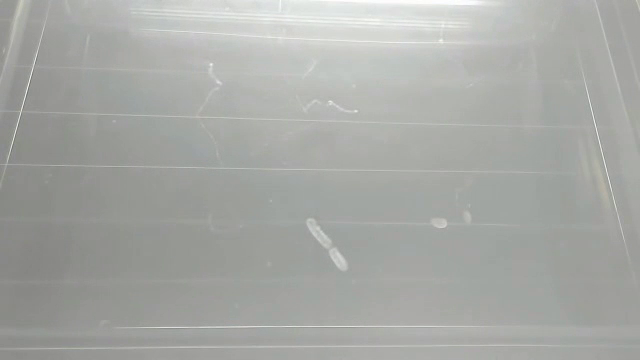alpha: (303, 214, 356, 274), (427, 212, 449, 235), (457, 206, 475, 227)
